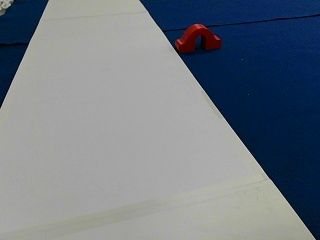bridge: (176, 24, 220, 50)
